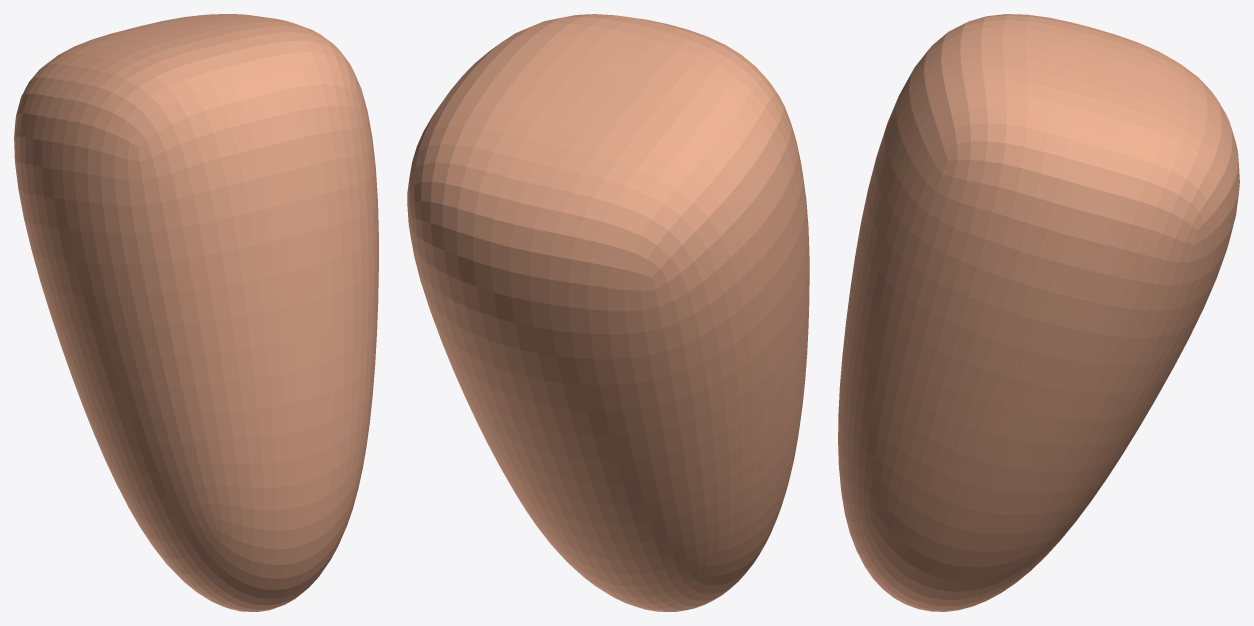
The model's file is antebrazoDer.obj.
3 views of the same model, side by side, from view 1: azimuth 30°, elevation 25°; view 2: azimuth 150°, elevation 25°; view 3: azimuth 270°, elevation 25° (orthographic). The views are drawn at different scales.
Parts seen in each view (by area): view 1: antebrazoDerElRey_Mesh; view 2: antebrazoDerElRey_Mesh; view 3: antebrazoDerElRey_Mesh.
Part boxes in pixels (x1=…): antebrazoDerElRey_Mesh: x1=14, y1=14, x2=378, y2=611; antebrazoDerElRey_Mesh: x1=407, y1=14, x2=809, y2=611; antebrazoDerElRey_Mesh: x1=838, y1=14, x2=1239, y2=611.
Bounding box in the file's own units: 0.5576 × 0.9516 × 0.6206.
Materials: 1 (1 with a texture image).
